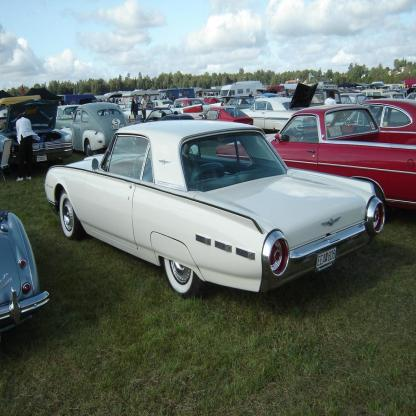Car: (1, 81, 416, 298), (1, 214, 51, 337)
